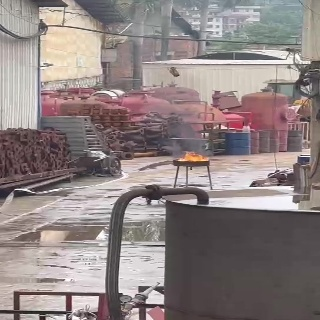fire: (177, 152, 209, 161)
